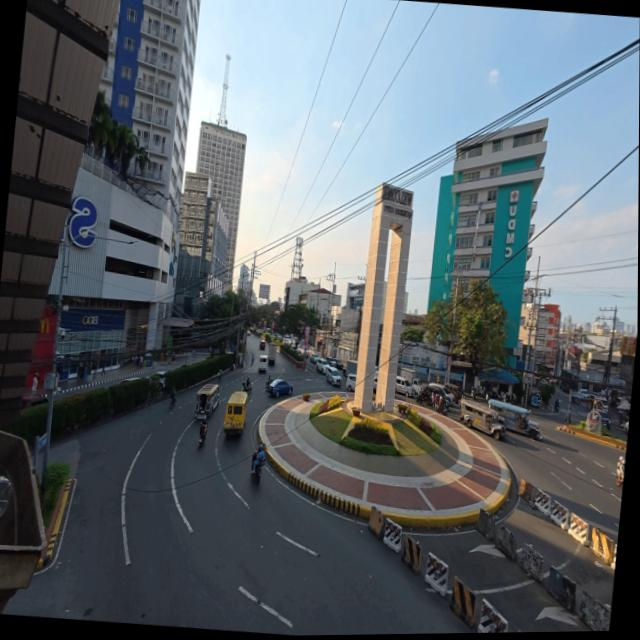Jeepneys: (488, 400, 541, 440), (460, 398, 505, 440), (195, 383, 218, 419)
car: (425, 383, 454, 404), (267, 379, 292, 396), (395, 376, 414, 397), (443, 383, 460, 403), (325, 367, 341, 386), (345, 373, 357, 392), (315, 358, 328, 373), (334, 358, 343, 371), (326, 357, 335, 367), (308, 353, 317, 363), (372, 375, 376, 391), (623, 422, 628, 433)
motorcycle: (251, 452, 262, 483), (435, 400, 448, 416), (198, 425, 206, 447), (265, 376, 273, 391), (241, 382, 251, 393), (168, 396, 176, 408), (616, 477, 622, 487), (554, 401, 558, 413)
trucks: (400, 368, 416, 385), (343, 360, 356, 377), (267, 343, 275, 365)
vans: (223, 391, 247, 434), (257, 355, 266, 371)
